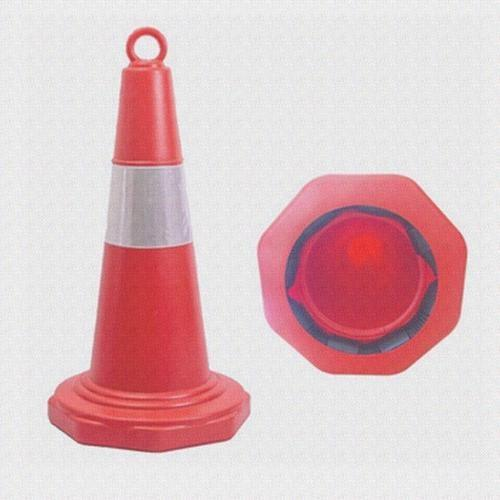cone_barrel: (60, 43, 238, 440)
